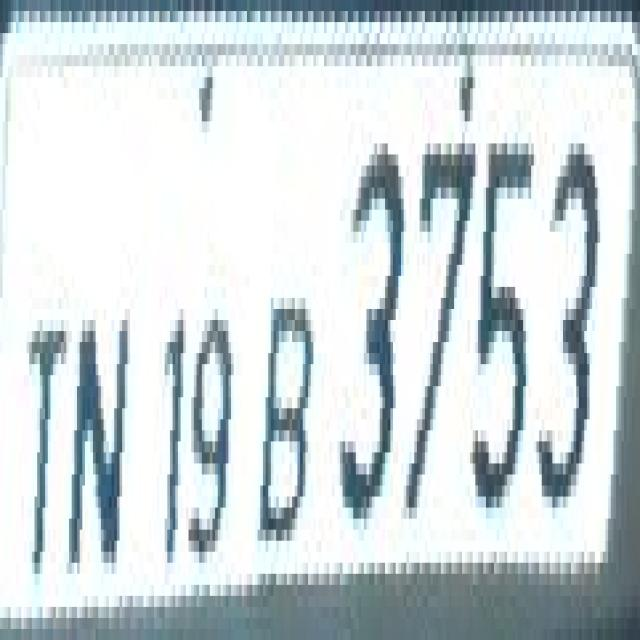license_plate: (0, 11, 616, 640)
